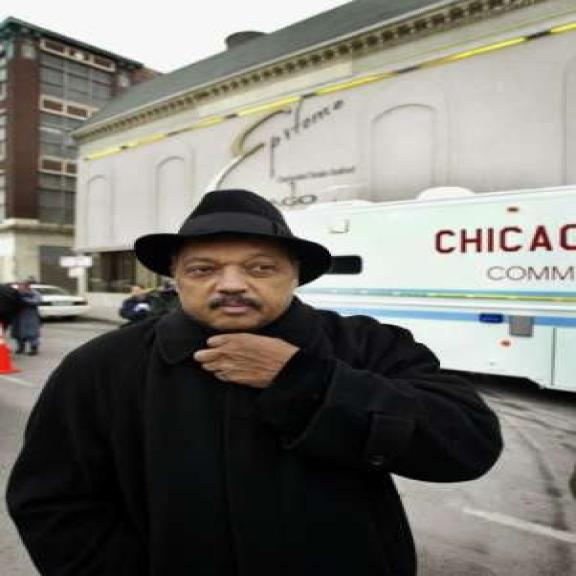face: (166, 240, 309, 336)
